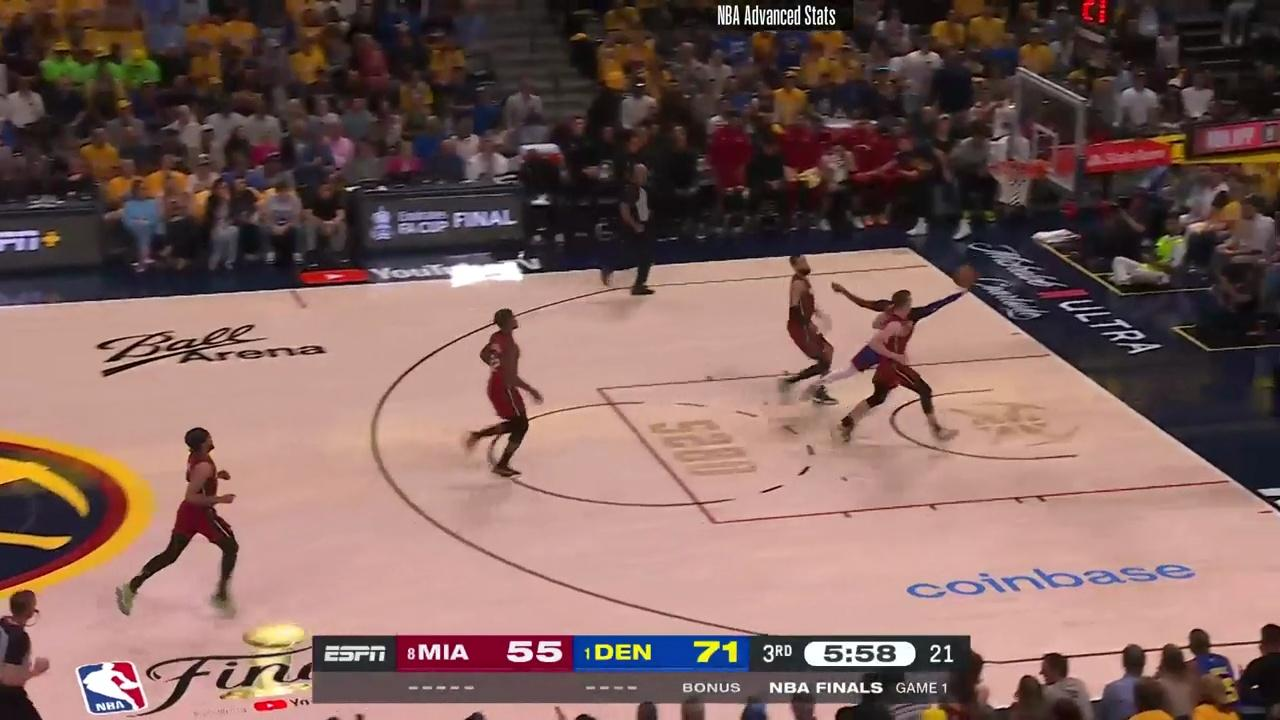Backboard: (1007, 82, 1089, 189)
Ball: (958, 266, 978, 289)
Basket: (984, 157, 1042, 207)
Person: (120, 423, 258, 619), (828, 284, 955, 450), (462, 305, 549, 483), (775, 248, 851, 407)
Referee: (606, 158, 671, 296), (0, 584, 50, 716)
Shot Clock: (1072, 0, 1116, 54)
